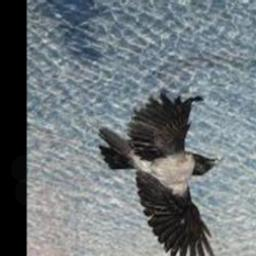Crow: (97, 94, 221, 256)
